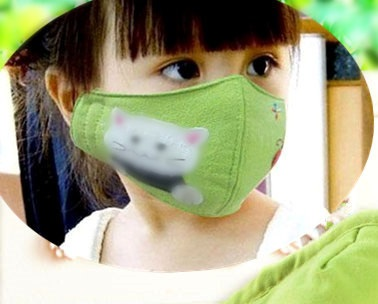face_mask: (98, 1, 290, 221)
